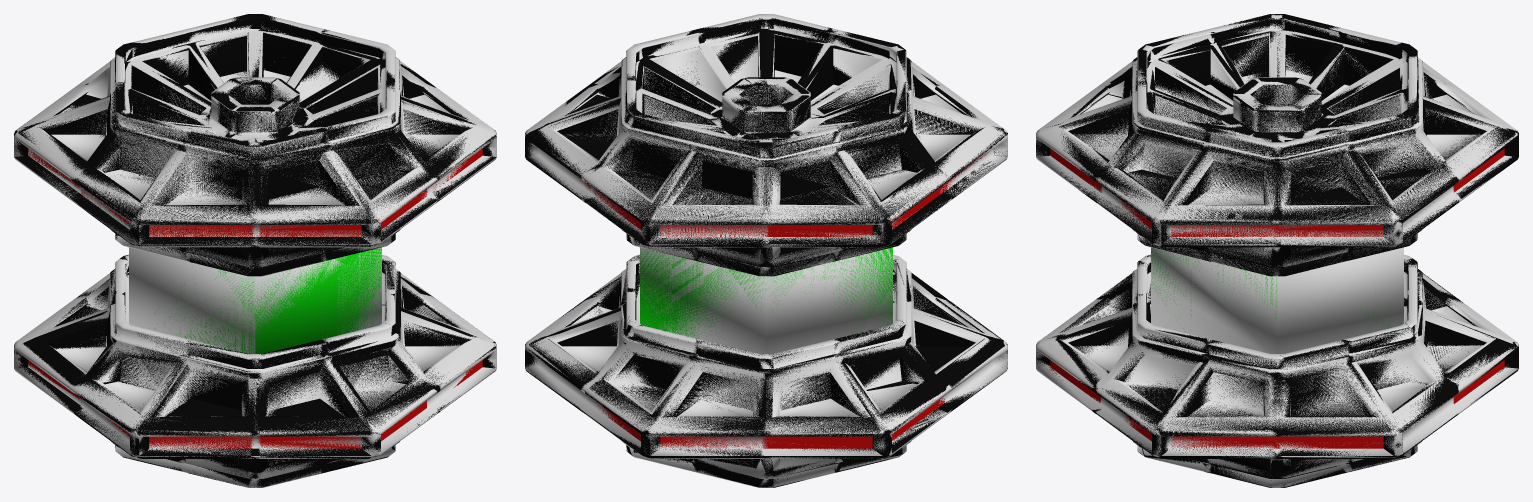
The model's file is MD_OB_MotherShip_Repulsor_Outline_00.fbx.
The picture shows the model from 3 angles, left to right: view 1: azimuth 30°, elevation 25°; view 2: azimuth 150°, elevation 25°; view 3: azimuth 270°, elevation 25°; orthographic projection.
Parts seen in each view (by area): view 1: MD_OB_MotherShip_Repulsor_00, SmoothNormals; view 2: SmoothNormals, MD_OB_MotherShip_Repulsor_00; view 3: SmoothNormals, MD_OB_MotherShip_Repulsor_00.
Boxes of the visible parts, bbox=[...] form: MD_OB_MotherShip_Repulsor_00: bbox=[14, 14, 496, 487]; SmoothNormals: bbox=[14, 16, 496, 487]; SmoothNormals: bbox=[525, 14, 1007, 487]; MD_OB_MotherShip_Repulsor_00: bbox=[525, 18, 1007, 487]; SmoothNormals: bbox=[1036, 14, 1518, 487]; MD_OB_MotherShip_Repulsor_00: bbox=[1036, 14, 1518, 487].
Size of the model in its own units: 996 by 887 by 1136.
